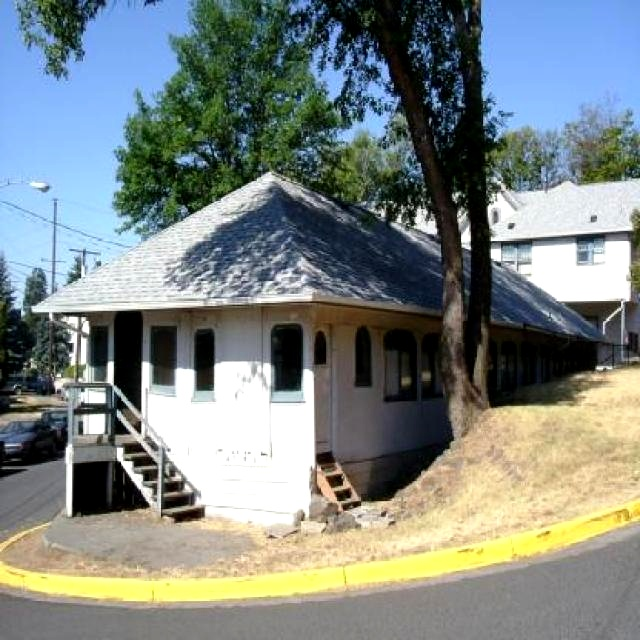stair: (114, 439, 206, 523), (315, 454, 360, 515)
